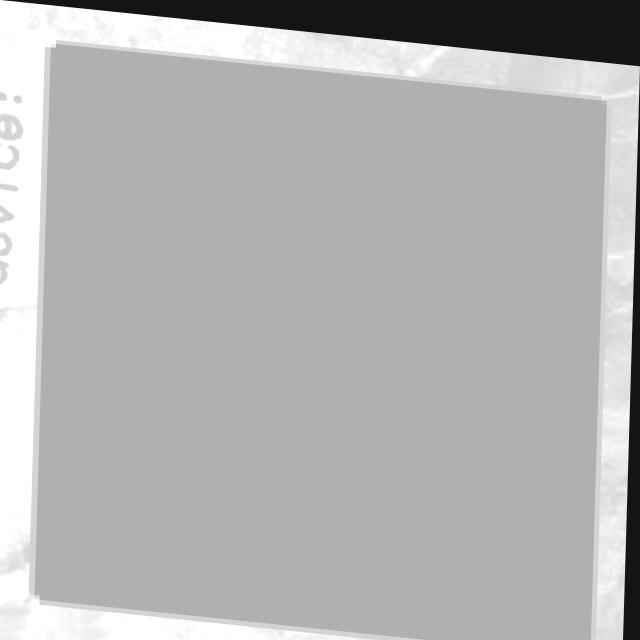qr_code: (38, 42, 607, 640)
